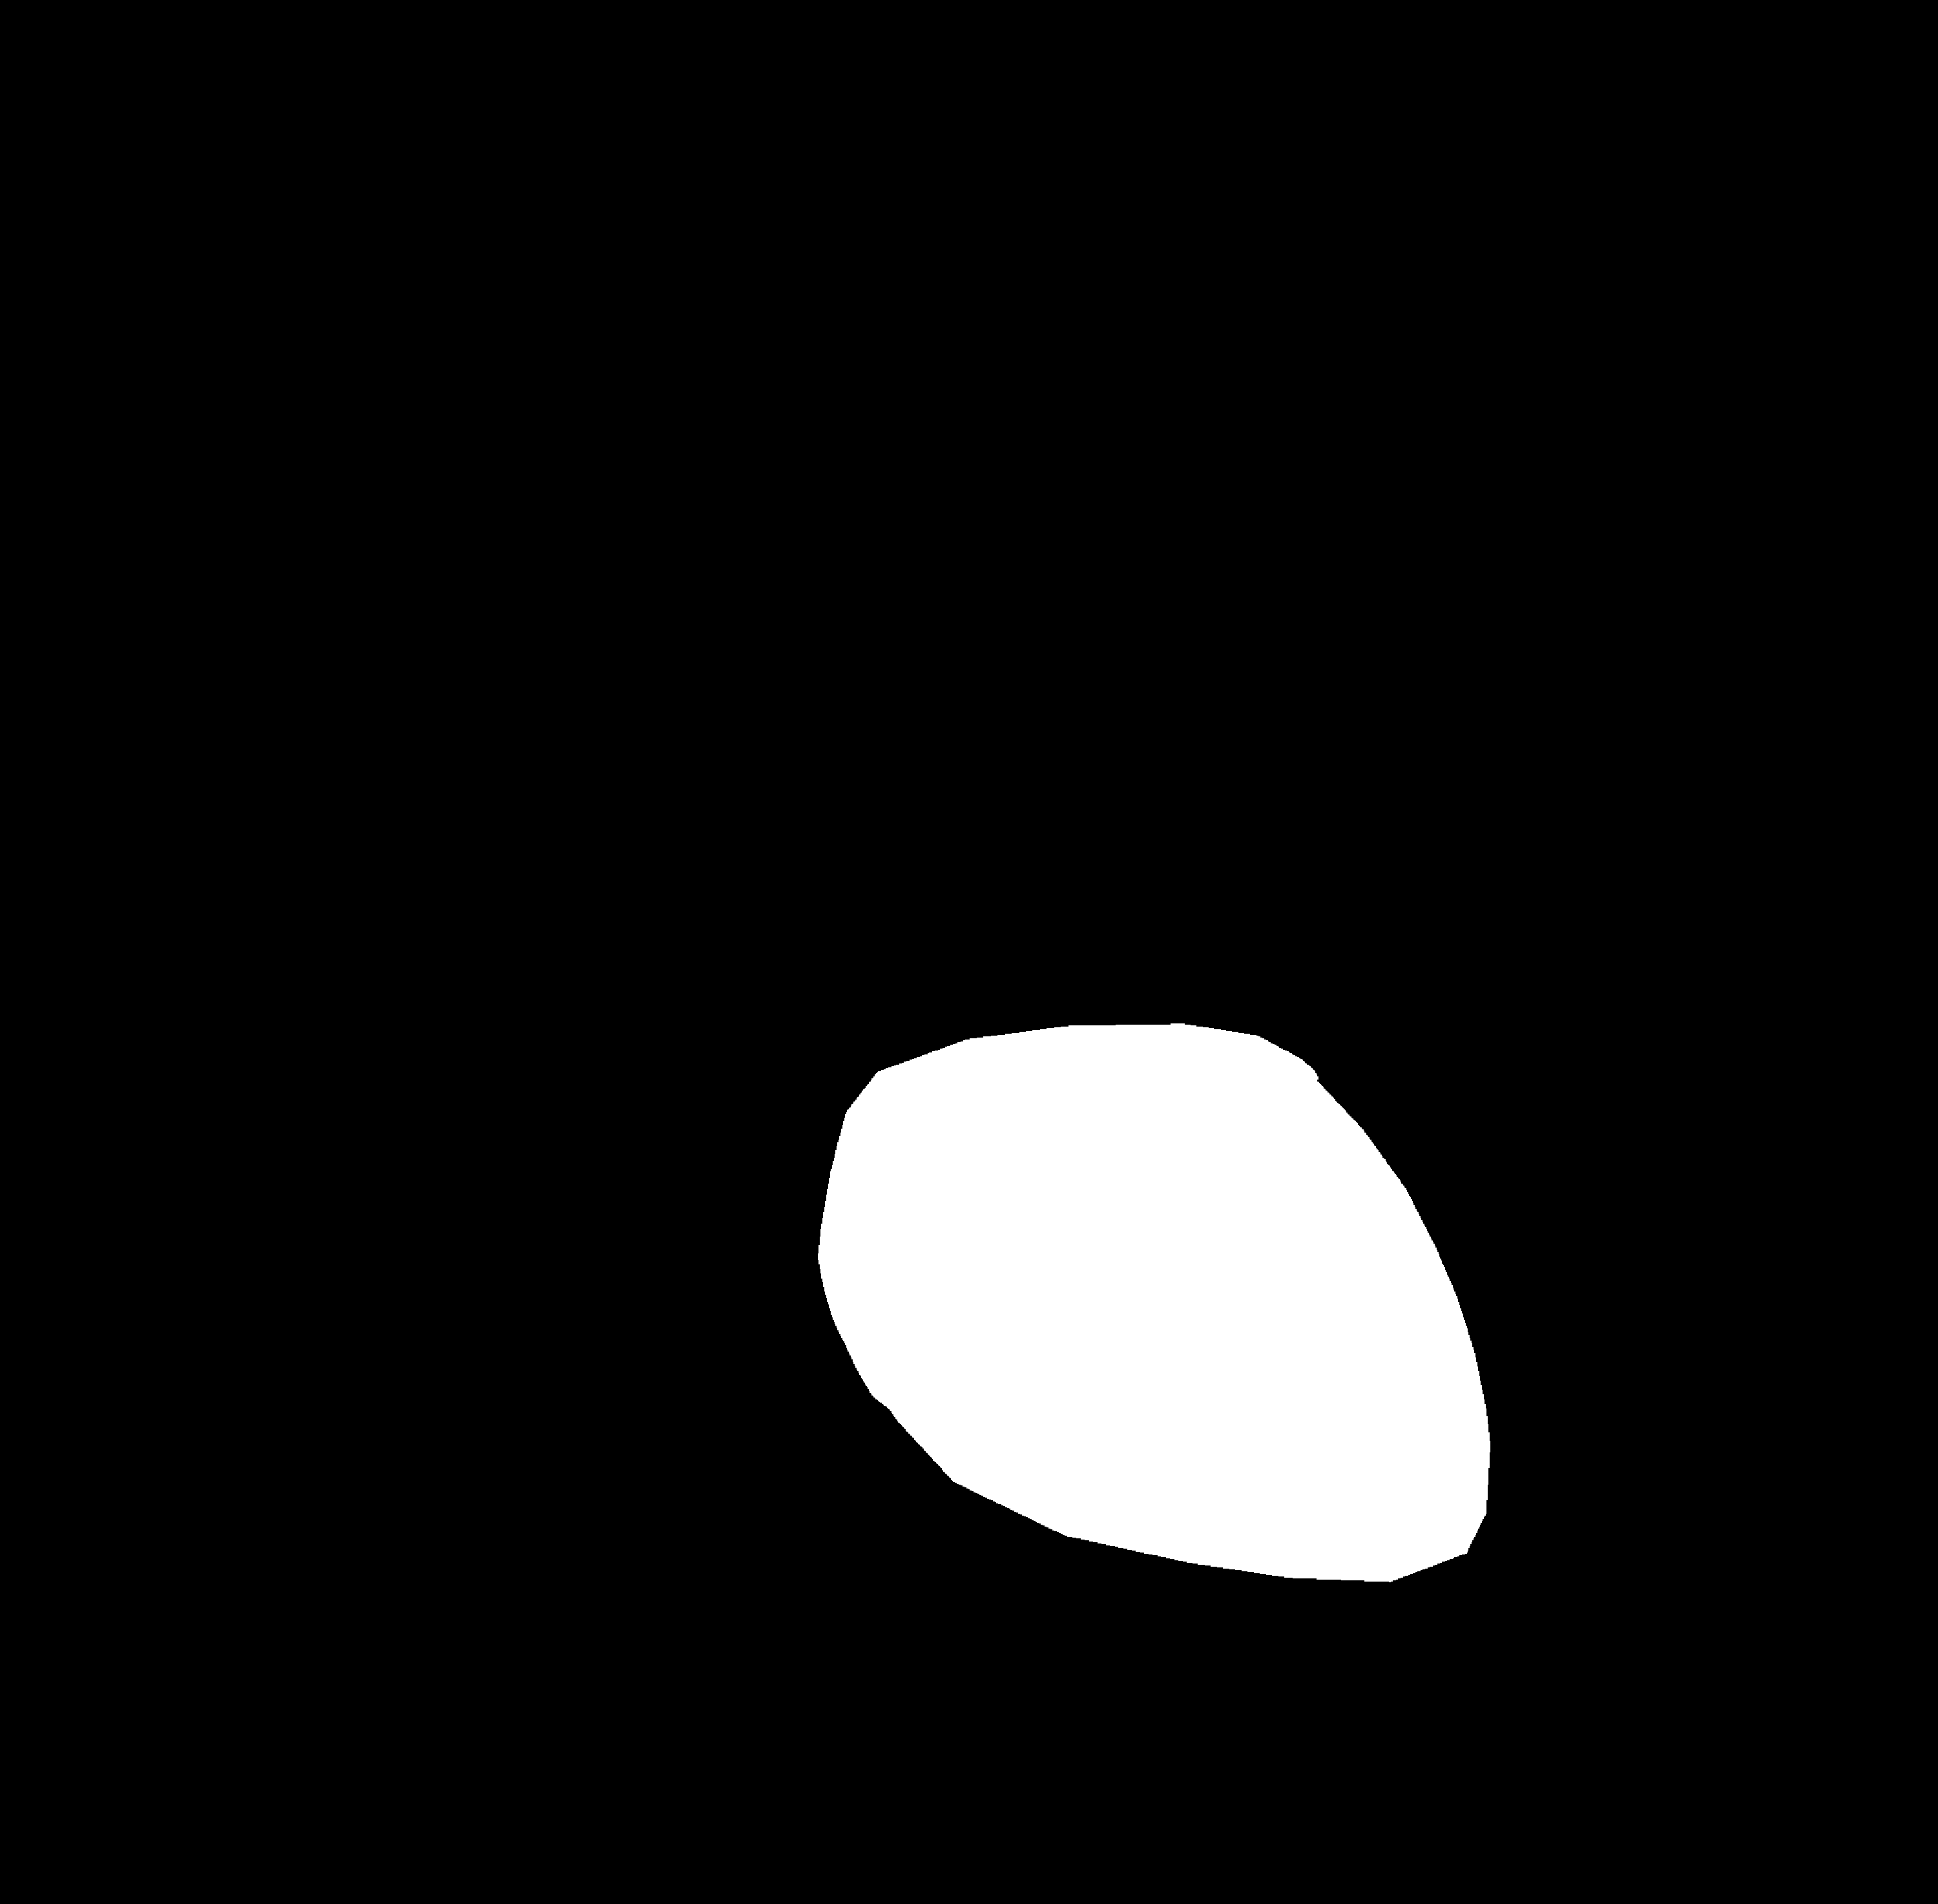heart: (821, 1065, 1494, 1601)
left_lung: (193, 373, 918, 1620)
right_lung: (1091, 373, 1767, 1623)
